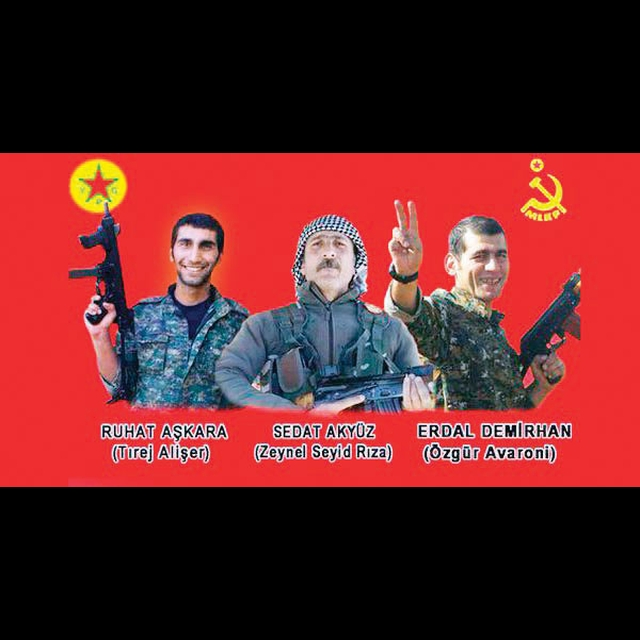MLKP: (520, 156, 577, 229)
YPG: (65, 160, 136, 216)
ZI: (380, 193, 434, 295)
